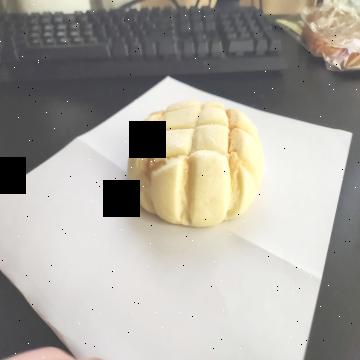melon_bread: (127, 101, 263, 226)
